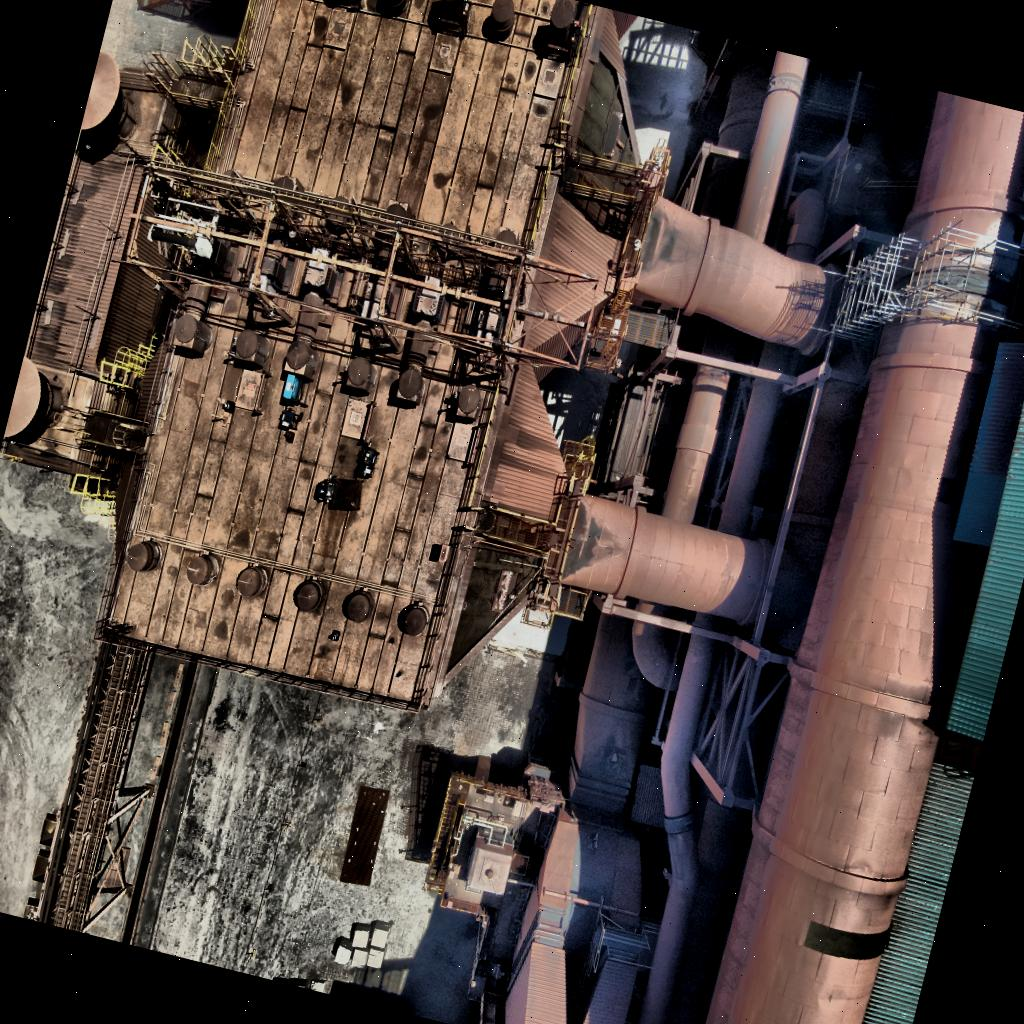Failures: (550, 39, 669, 240), (436, 519, 553, 704), (799, 908, 894, 978)
